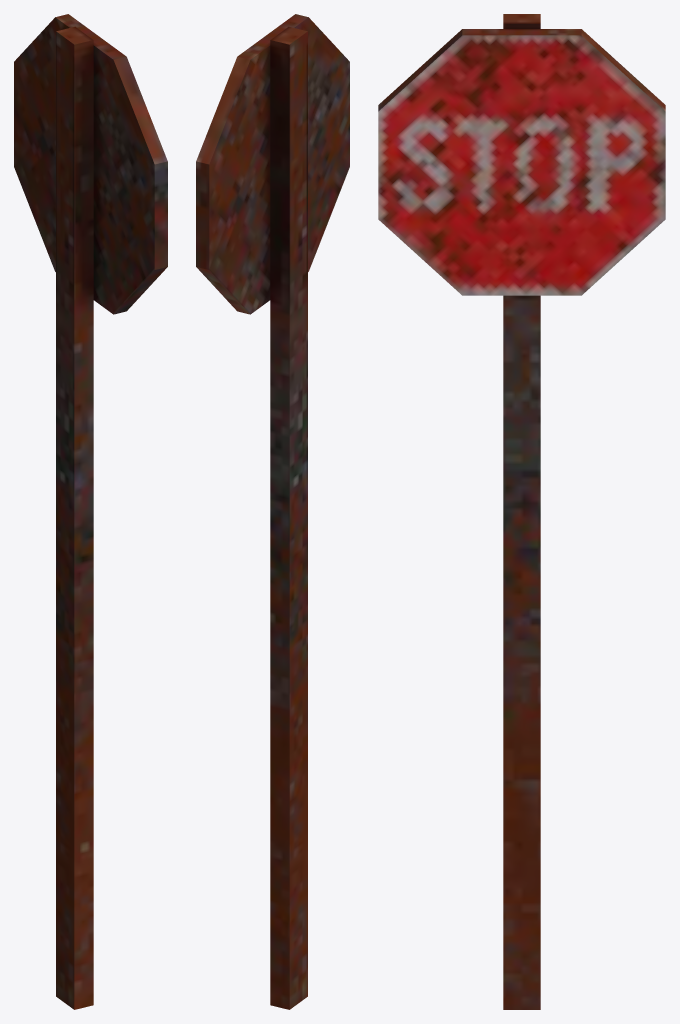
The model's file is stop-sign.glb.
3 renders of one model, left to right at view 1: azimuth 30°, elevation 25°; view 2: azimuth 150°, elevation 25°; view 3: azimuth 270°, elevation 25°, orthographic. The views are drawn at different scales.
Visible parts, largest first — view 1: Cube; view 2: Cube; view 3: Cube.
Part boxes in pixels (bbox=[...]): Cube: bbox=[14, 14, 167, 1009]; Cube: bbox=[196, 14, 349, 1009]; Cube: bbox=[378, 14, 665, 1009].
Bounding box in the file's own units: 0.0841 × 2.4 × 0.6335.
Materials: 1 (1 with a texture image).
